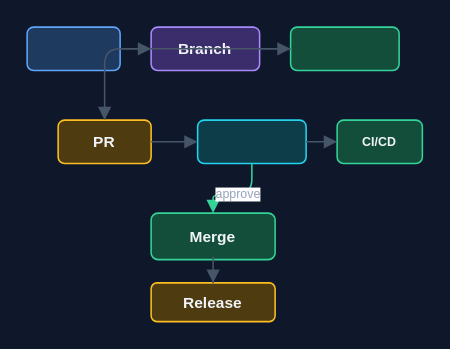
Some shapes in this 450 by 349 pixel diagram are drawn without their labels. Each missing label, with the centre of its shape:
"Commit" goes at (x=344, y=48).
"Fork" goes at (x=73, y=48).
"Review" goes at (x=251, y=141).
